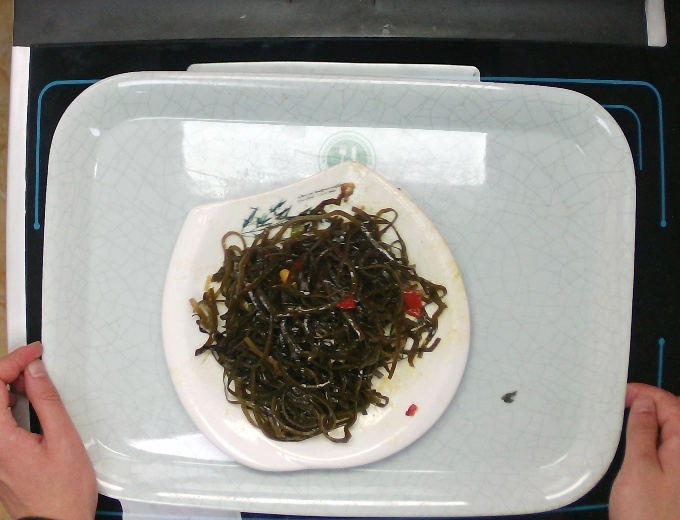JYsf-Mian_Pan: (158, 159, 476, 475)
